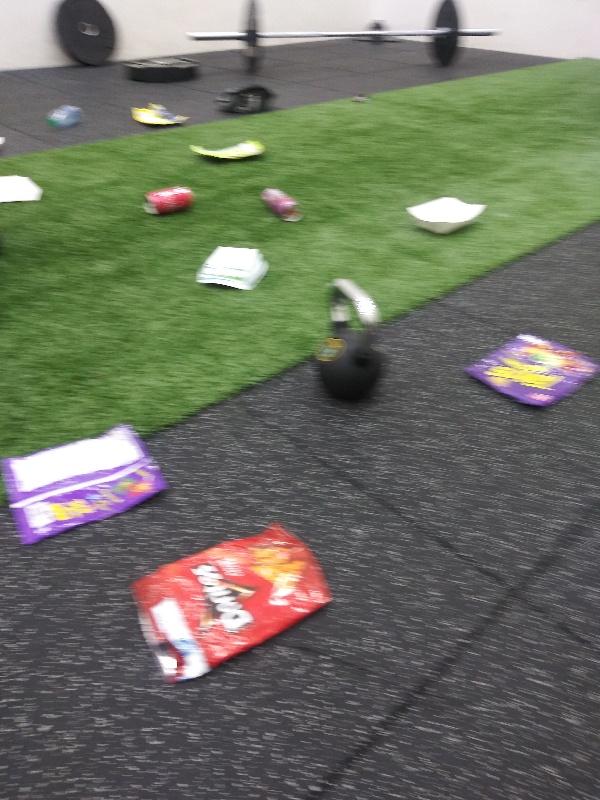bag: (130, 520, 335, 682), (3, 423, 172, 549), (457, 331, 600, 411), (183, 138, 269, 163), (129, 101, 195, 130)
bottle: (43, 102, 86, 131)
can: (137, 183, 199, 220), (254, 184, 305, 227)
plate: (194, 244, 274, 295), (402, 194, 492, 237), (1, 171, 45, 208)
